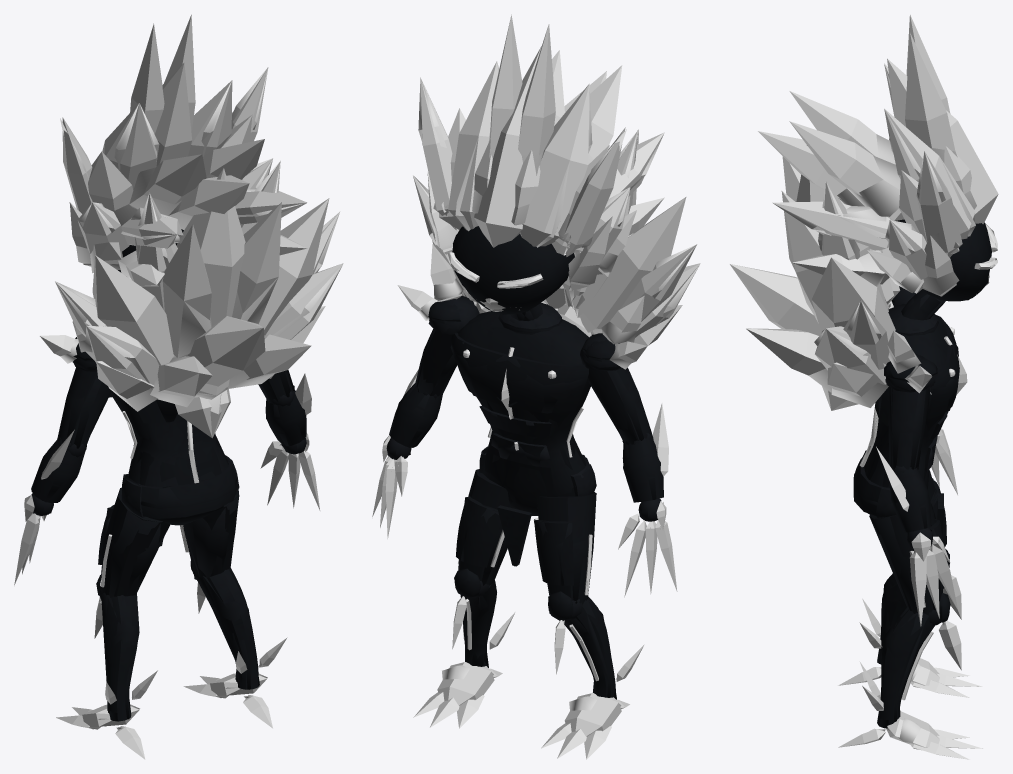
File: VortidosCristal_Elite.fbx
The picture shows the model from 3 angles, left to right: view 1: azimuth 30°, elevation 25°; view 2: azimuth 150°, elevation 25°; view 3: azimuth 270°, elevation 25°; orthographic projection.
Visible parts, largest first — view 1: BodyCristal, HeadCristal, LOD, LODCristal, Body, LowerLegL, LegL, LowerLegR, ForeArmRCristal, LowerLegLCristal, LowerLegRCristal, ArmL (+5 smaller); view 2: HeadCristal, Body, LOD, BodyCristal, LODCristal, Head, LegL, LegR, LowerLegRCristal, LowerLegLCristal, ForeArmLCristal, ArmL (+9 smaller); view 3: HeadCristal, BodyCristal, LODCristal, LOD, Body, LowerLegRCristal, LowerLegR, ForeArmRCristal, Head, ArmR, LowerLegLCristal, ForeArmR (+4 smaller).
Boxes of the visible parts, x1,y1,x2,y2 form: BodyCristal: (55, 161, 343, 437); HeadCristal: (62, 14, 306, 286); LOD: (31, 229, 306, 720); LODCristal: (31, 68, 342, 732); Body: (109, 391, 238, 546); LowerLegL: (97, 575, 138, 721); LegL: (98, 487, 170, 596); LowerLegR: (190, 561, 258, 689); ForeArmRCristal: (260, 373, 320, 510); LowerLegLCristal: (56, 597, 157, 759); LowerLegRCristal: (183, 582, 287, 728); ArmL: (58, 337, 110, 448); HeadCristal: (420, 14, 664, 311); Body: (450, 303, 595, 566); LOD: (387, 226, 663, 699); BodyCristal: (413, 93, 700, 412); LODCristal: (392, 79, 699, 731); Head: (452, 226, 573, 321); LegL: (534, 492, 595, 604); LegR: (456, 469, 515, 585); LowerLegRCristal: (413, 596, 515, 728); LowerLegLCristal: (541, 620, 644, 759); ForeArmLCristal: (618, 403, 677, 597); ArmL: (580, 333, 651, 443); HeadCristal: (758, 14, 998, 296); BodyCristal: (730, 145, 967, 410); LODCristal: (773, 67, 989, 749); LOD: (853, 219, 991, 728); Body: (853, 305, 959, 534); LowerLegRCristal: (838, 621, 983, 759); LowerLegR: (877, 593, 949, 727); ForeArmRCristal: (876, 446, 958, 626); Head: (896, 220, 990, 320); ArmR: (884, 355, 937, 469); LowerLegLCristal: (838, 575, 982, 697); ForeArmR: (890, 464, 932, 549).
Size of the model in its own units: 500 by 1093 by 384.
